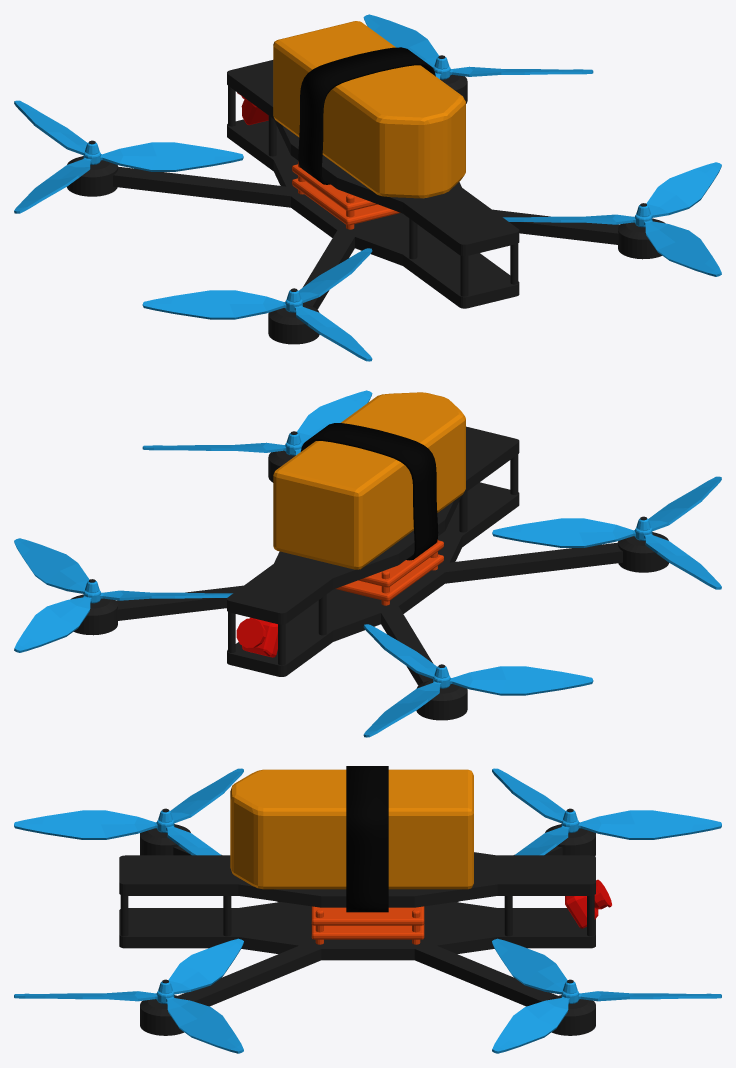
Rendered from drone_model.fbx.
The picture shows the model from 3 angles, top to bottom: view 1: azimuth 30°, elevation 25°; view 2: azimuth 150°, elevation 25°; view 3: azimuth 270°, elevation 25°; orthographic projection.
Visible parts, largest first — view 1: Drone, Battery, Props, Battery_Strap, FC_ESC; view 2: Drone, Battery, Props, Battery_Strap, FC_ESC, Cam; view 3: Drone, Battery, Props, Battery_Strap, FC_ESC, Cam.
Boxes of the visible parts, bbox=[...] form: Drone: bbox=[67, 55, 665, 344]; Battery: bbox=[273, 21, 465, 198]; Props: bbox=[14, 14, 721, 361]; Battery_Strap: bbox=[298, 47, 435, 184]; FC_ESC: bbox=[292, 161, 400, 229]; Drone: bbox=[70, 426, 668, 720]; Battery: bbox=[273, 392, 465, 569]; Props: bbox=[14, 390, 721, 737]; Battery_Strap: bbox=[300, 423, 438, 560]; FC_ESC: bbox=[335, 539, 443, 605]; Cam: bbox=[236, 617, 277, 657]; Drone: bbox=[119, 808, 595, 1035]; Battery: bbox=[230, 769, 473, 889]; Props: bbox=[14, 768, 721, 1053]; Battery_Strap: bbox=[346, 766, 388, 912]; FC_ESC: bbox=[311, 906, 424, 944]; Cam: bbox=[565, 879, 611, 928].
Size of the model in its own units: 52.93 by 13.56 by 55.98.
